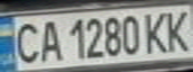0: (121, 11, 142, 56)
1: (63, 15, 87, 60)
2: (81, 13, 106, 60)
8: (103, 12, 124, 57)
A: (33, 17, 63, 63)
C: (6, 18, 42, 65)
K: (160, 7, 193, 53), (142, 8, 172, 55)
